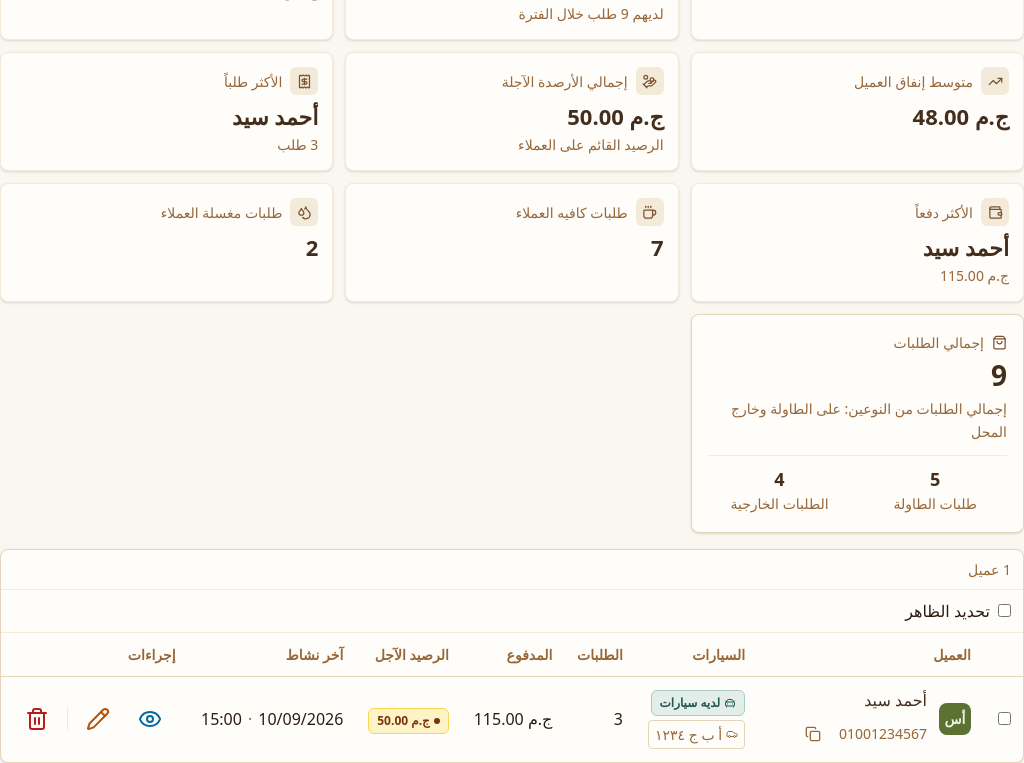
Test: CustomersPage — permanent delete (ADMIN only) › confirms before deleting, and the click alone sends nothing
(page scrolled)
Step 1. Click the button with test id "customer-row-delete" → x=37, y=719, box [13,695,61,743]
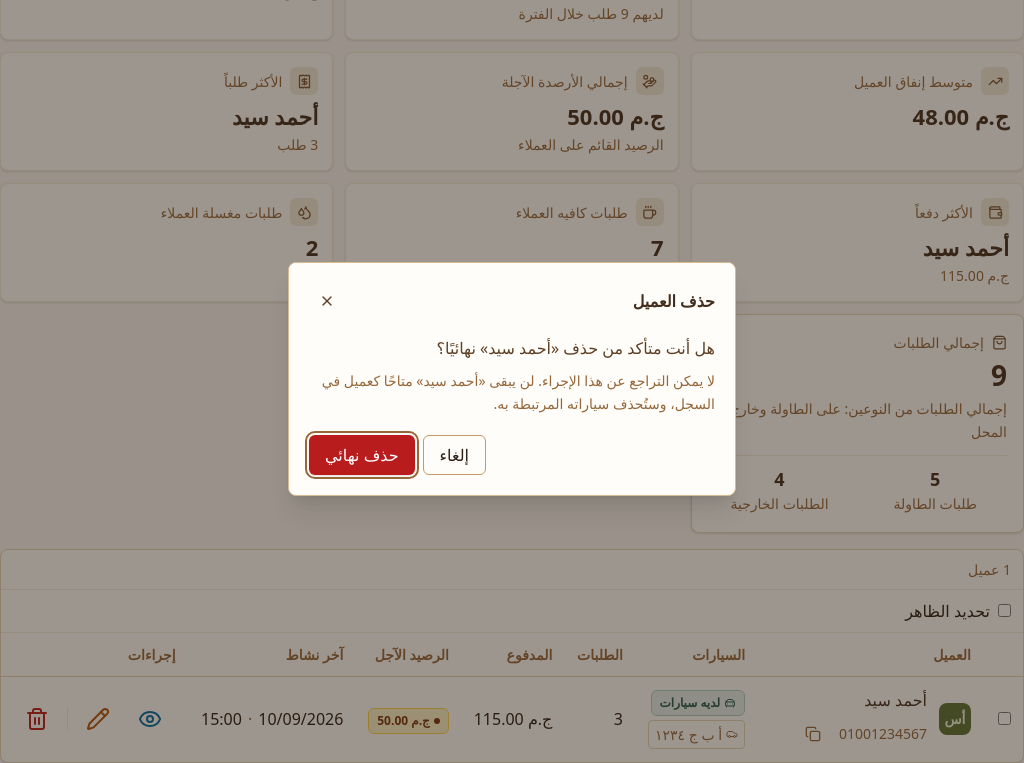
Now the text "هل أنت متأكد من حذف «أحمد سيد» نهائيًا؟" is shown, box [436,337,715,359]
Now the text "لا يمكن التراجع" is shown, box [322,371,715,413]
Now the button "حذف نهائي" is shown, box [309,435,414,475]
